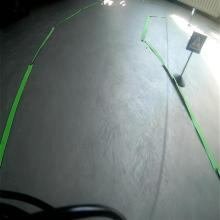crosswalk: (186, 30, 208, 55)
